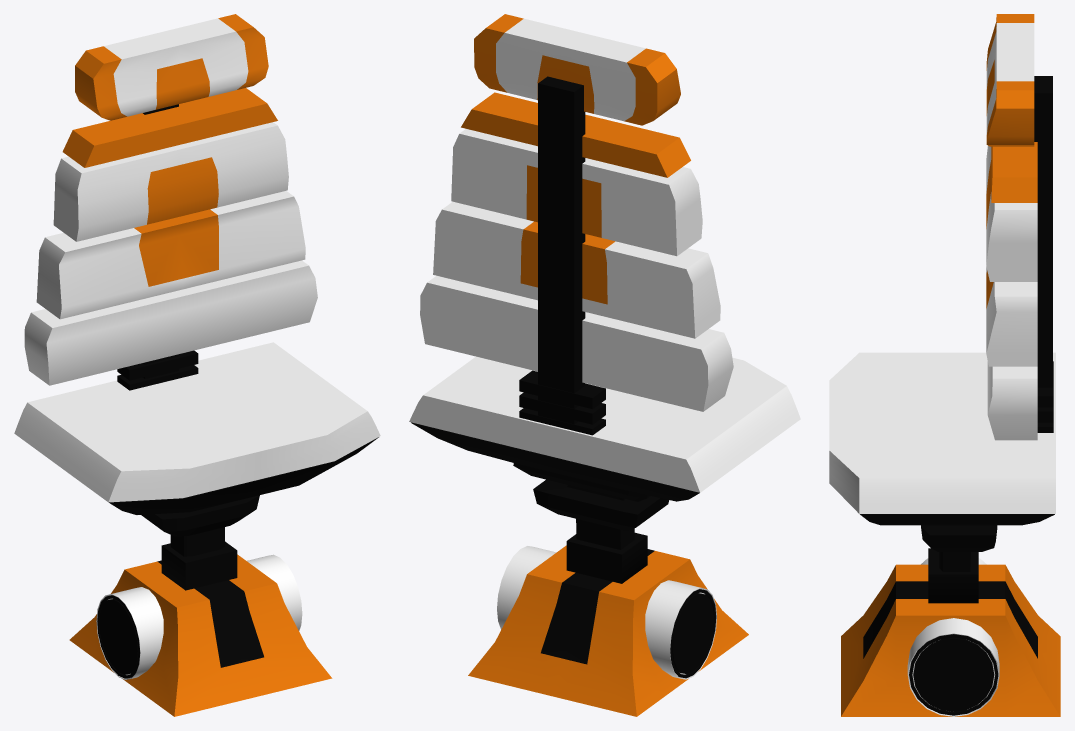
The model's file is SM_chair.fbx.
The picture shows the model from 3 angles, left to right: view 1: azimuth 30°, elevation 25°; view 2: azimuth 150°, elevation 25°; view 3: azimuth 270°, elevation 25°; orthographic projection. The views are drawn at different scales.
Parts seen in each view (by area): view 1: Chair_LP; view 2: Chair_LP; view 3: Chair_LP.
Part boxes in pixels (x1,y1,x2,y2): Chair_LP: (14,14,380,716); Chair_LP: (409,14,800,716); Chair_LP: (829,14,1060,716).
Bounding box in the file's own units: 73.66 × 154 × 51.83.
Materials: 1 (1 with a texture image).
